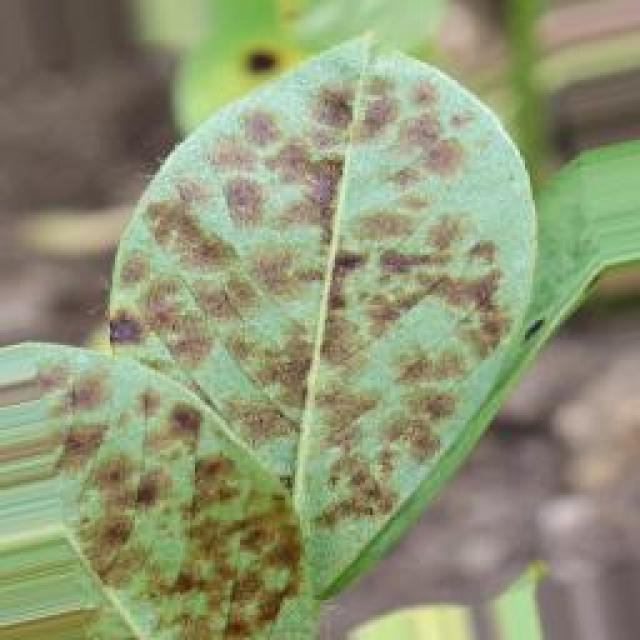Whitefly: (0, 16, 509, 612)
